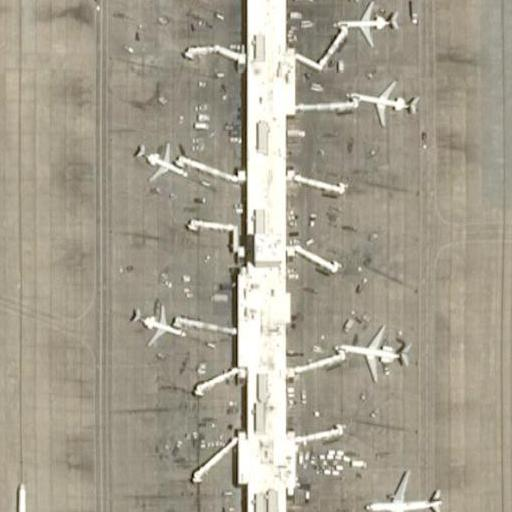Aircraft: (325, 319, 416, 386), (342, 74, 421, 132), (121, 295, 191, 350), (363, 467, 447, 512), (330, 0, 409, 47), (125, 137, 195, 185), (0, 477, 49, 512)
